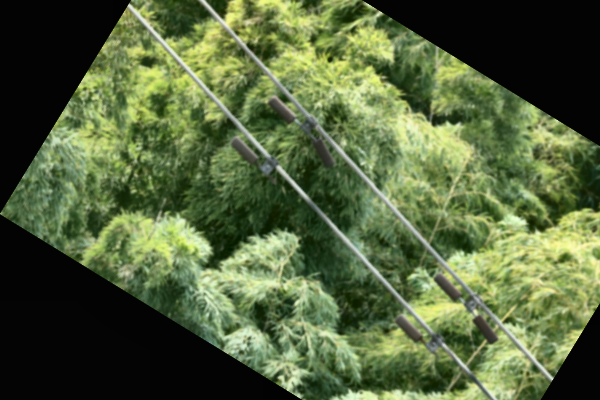damper: (268, 88, 337, 170), (432, 267, 500, 345)
damper_defect: (229, 135, 279, 192), (394, 313, 440, 361)
